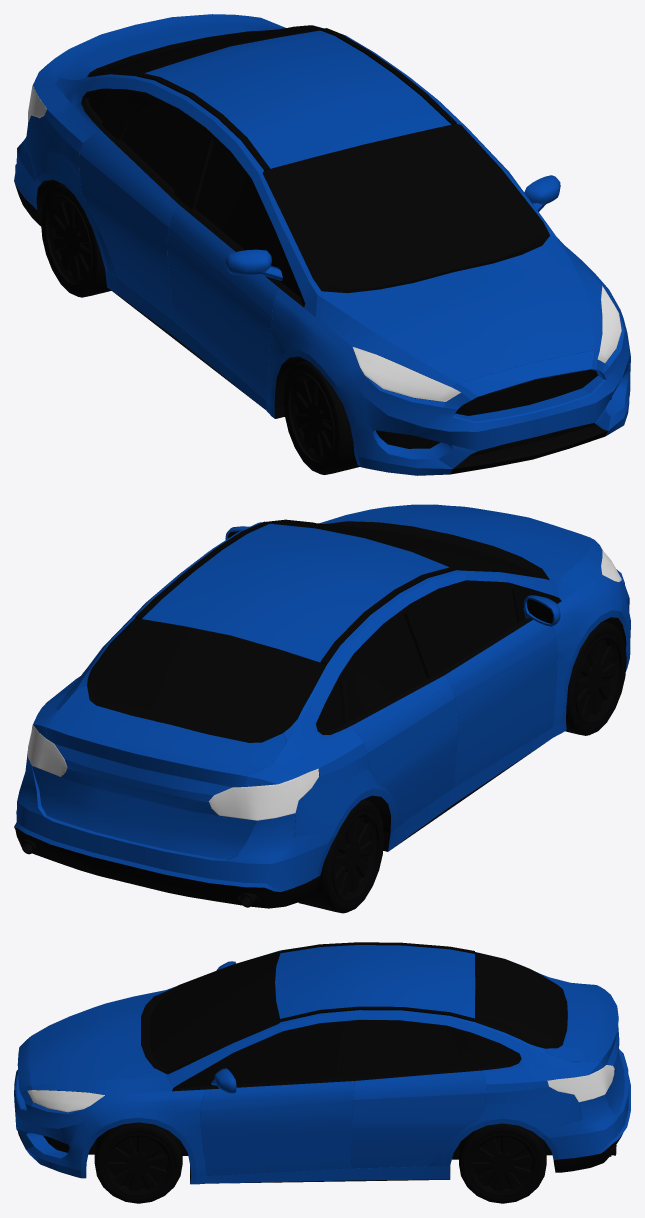
File: FordFocus.fbx
The picture shows the model from 3 angles, top to bottom: view 1: azimuth 30°, elevation 25°; view 2: azimuth 150°, elevation 25°; view 3: azimuth 270°, elevation 25°; orthographic projection. The views are drawn at different scales.
Parts seen in each view (by area): view 1: group3_polySurface15, pCylinder3, pCylinder4; view 2: group3_polySurface15, pCylinder4, pCylinder3; view 3: group3_polySurface15, pCylinder2, pCylinder1.
Part boxes in pixels (<box>): group3_polySurface15: <box>14,14,630,475</box>; pCylinder3: <box>283,360,359,474</box>; pCylinder4: <box>41,183,111,297</box>; group3_polySurface15: <box>14,504,630,908</box>; pCylinder4: <box>298,799,384,913</box>; pCylinder3: <box>565,621,626,735</box>; group3_polySurface15: <box>14,942,630,1184</box>; pCylinder2: <box>94,1122,182,1203</box>; pCylinder1: <box>459,1123,546,1203</box>.
Bounding box in the file's own units: 19.37 × 13.47 × 41.56.
